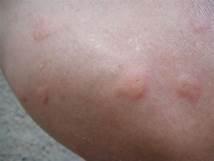Mosquito: (175, 74, 202, 102), (121, 70, 147, 99), (29, 20, 55, 43)
